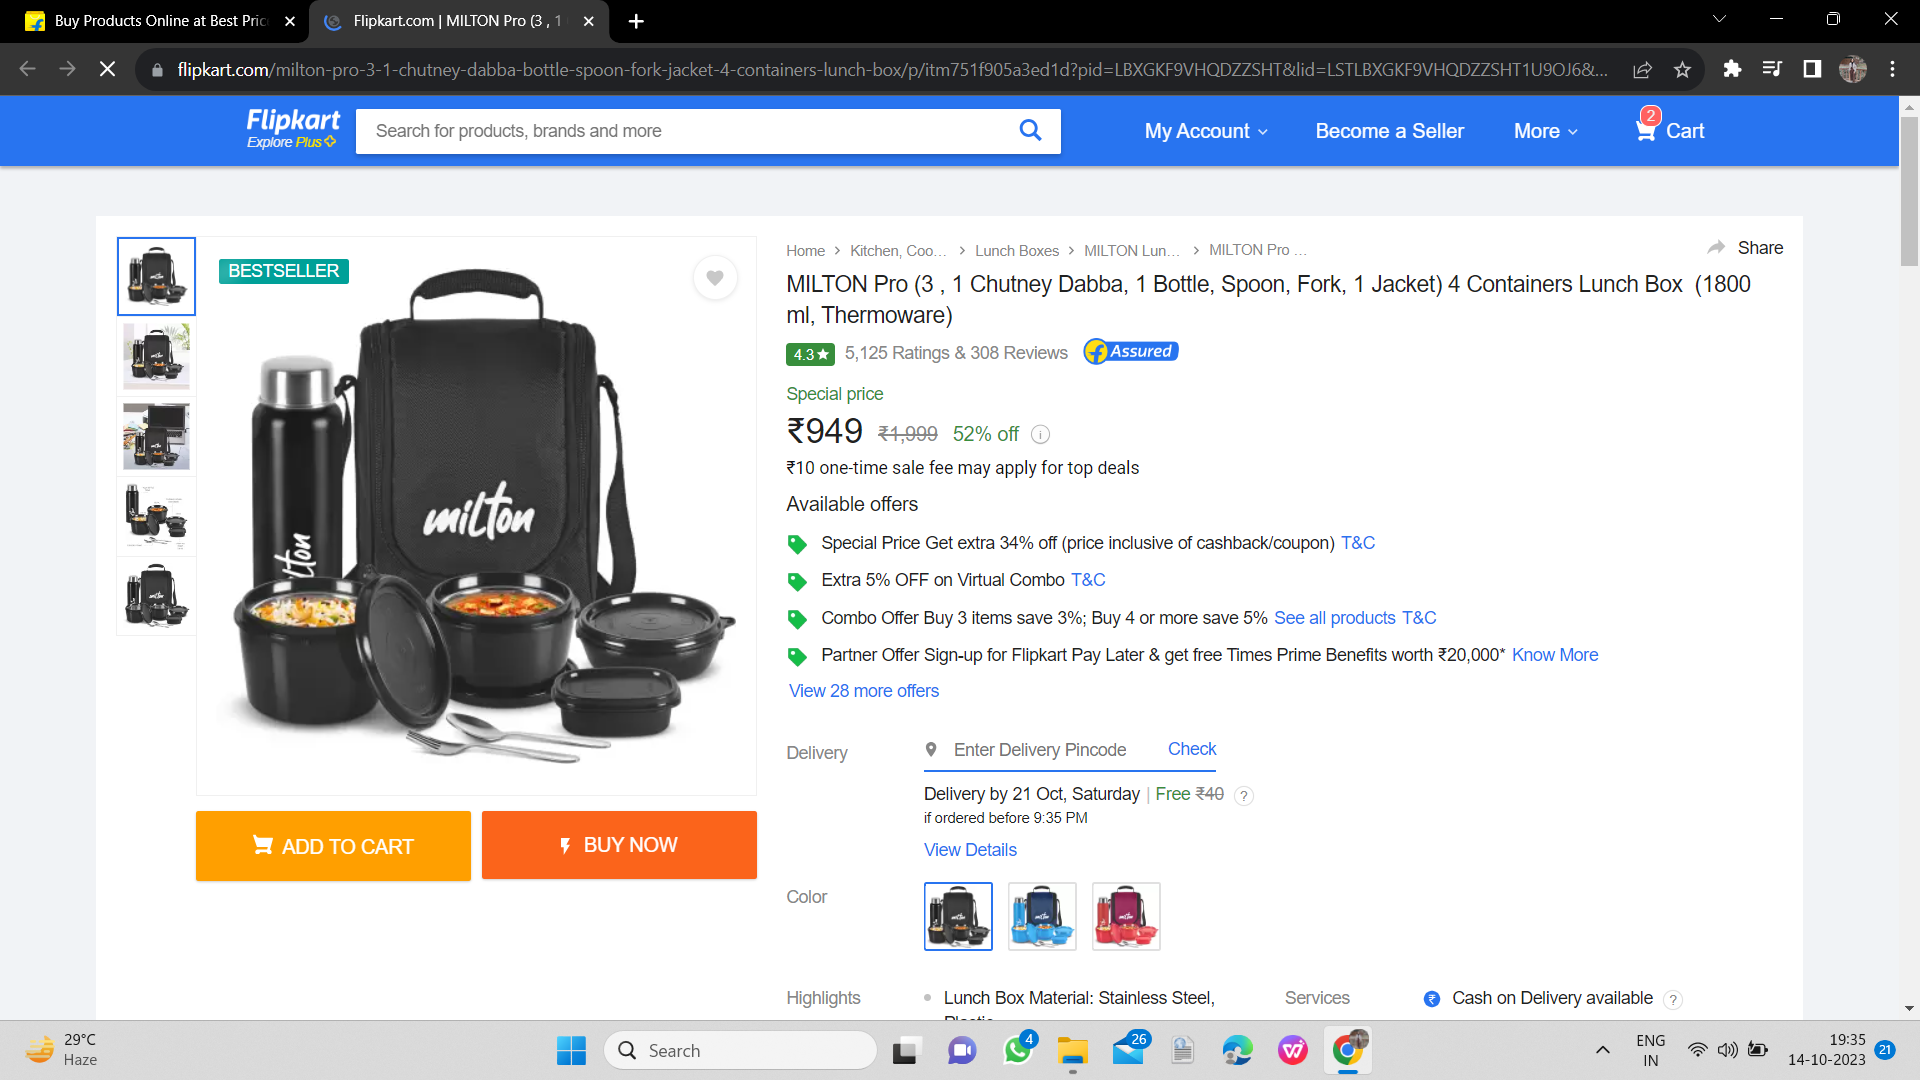Image: (211, 245, 741, 779), (913, 876, 1168, 951)
Paragraph: (775, 521, 1617, 709), (771, 266, 1764, 323), (175, 803, 766, 886), (1131, 109, 1731, 149), (773, 382, 1025, 444), (771, 335, 1199, 369), (765, 982, 1232, 1013), (1273, 976, 1655, 1010), (907, 721, 1220, 762), (773, 455, 1149, 475), (913, 783, 1145, 803), (779, 487, 927, 514), (775, 728, 856, 771), (779, 869, 835, 916)
